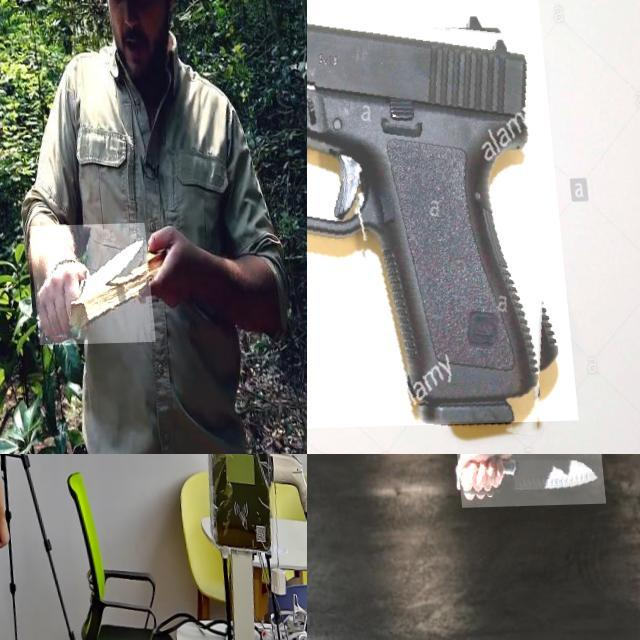-: (21, 225, 146, 346), (450, 454, 599, 509)
gun-knife-thesis - v11 Yolov5 augmented: (307, 0, 568, 433), (3, 454, 50, 482)
